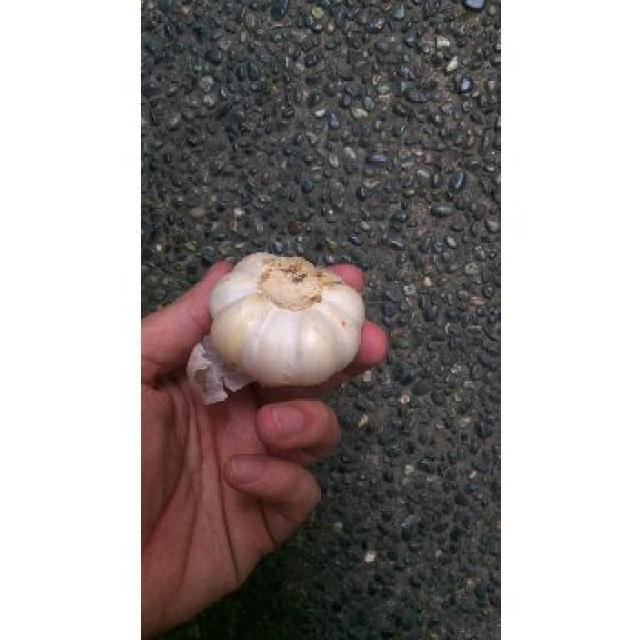Garlic: (194, 240, 373, 402)
